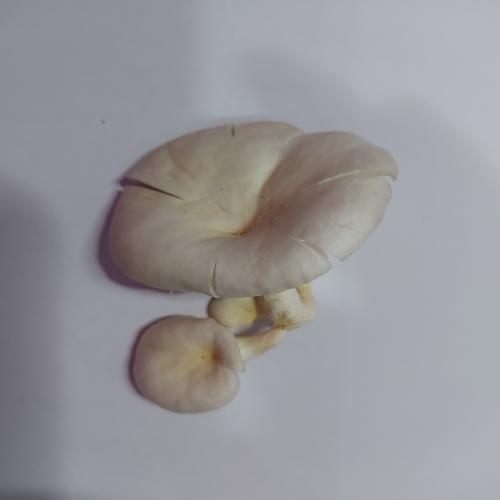Oyster Mushroom: (94, 116, 396, 408)
